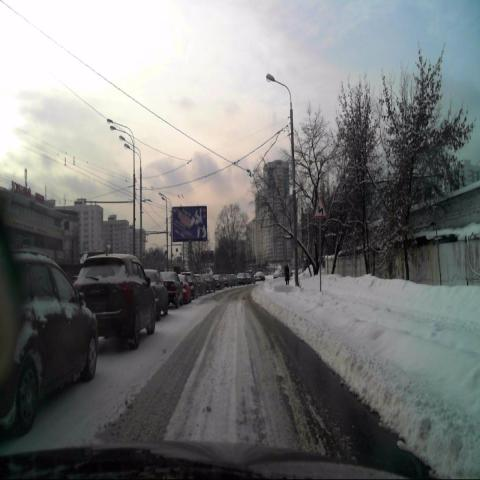1_12_2: (313, 196, 326, 221)
